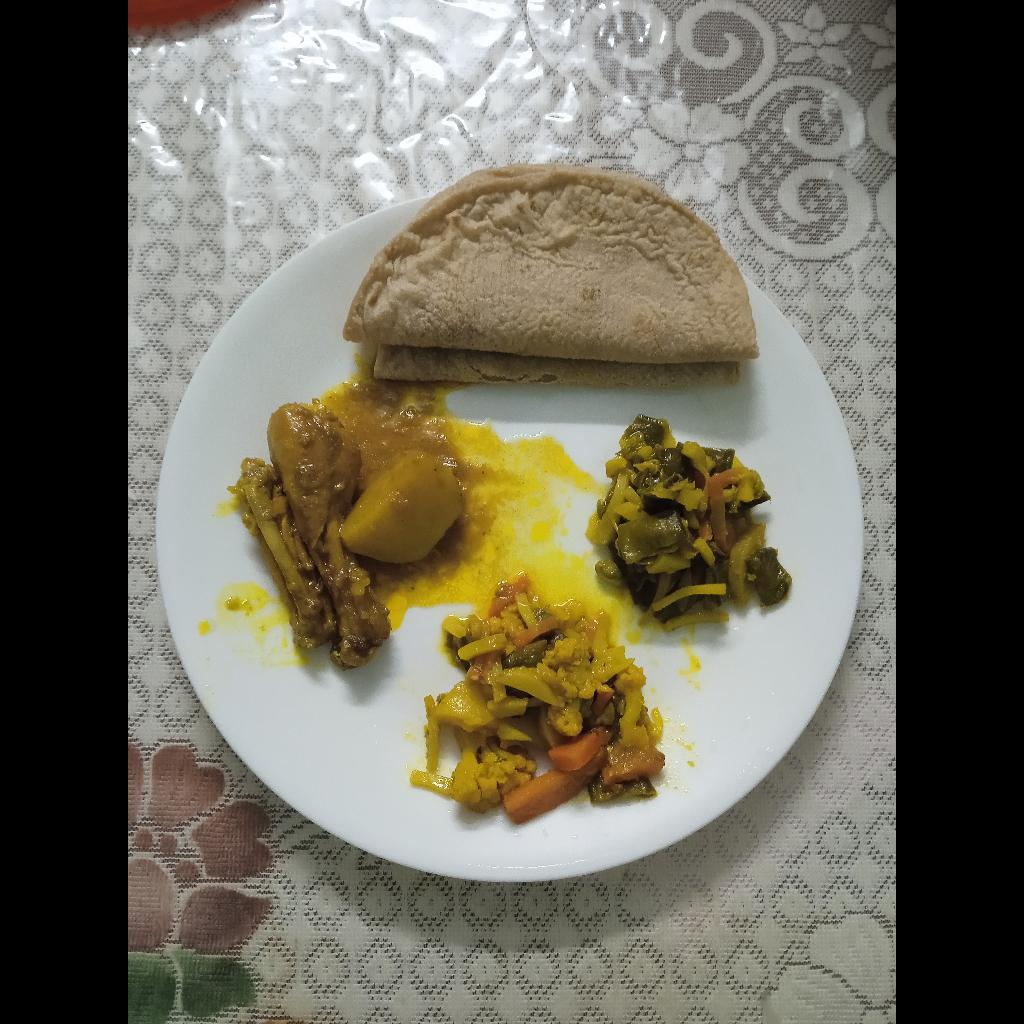chicken: (233, 398, 391, 672)
potato: (340, 448, 463, 563)
ruti: (342, 164, 759, 389)
shak: (589, 412, 794, 634)
vegetable: (410, 575, 667, 826)
